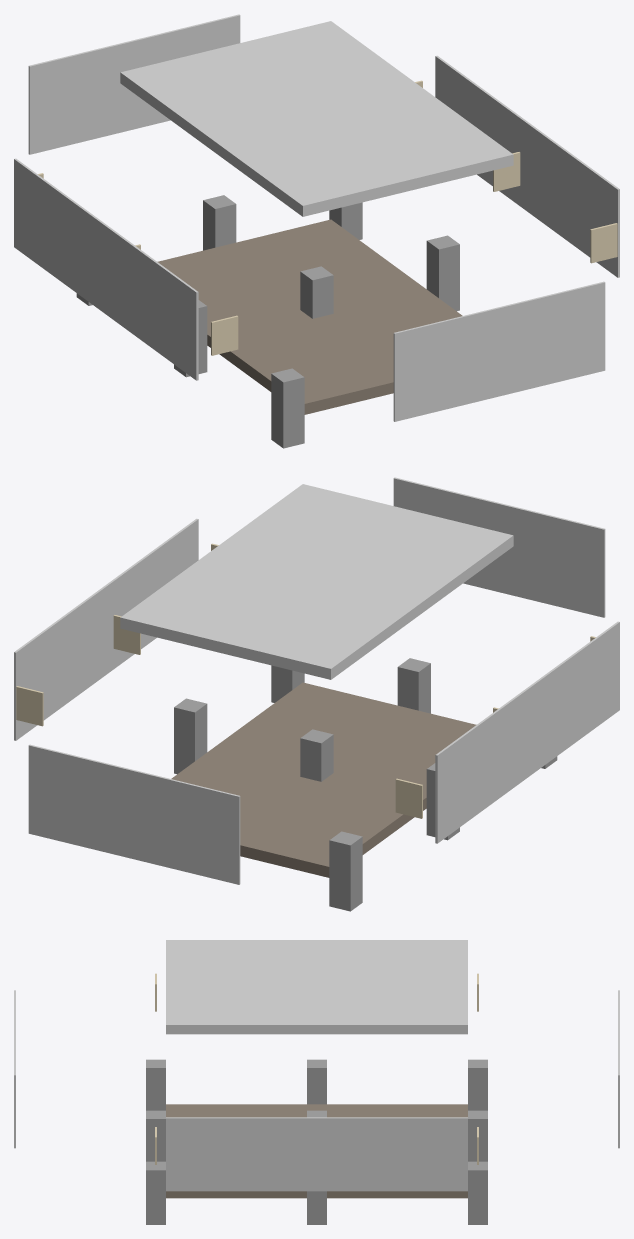
File: gallery_room.glb
The picture shows the model from 3 angles, top to bottom: view 1: azimuth 30°, elevation 25°; view 2: azimuth 150°, elevation 25°; view 3: azimuth 270°, elevation 25°; orthographic projection. The views are drawn at different scales.
Parts seen in each view (by area): view 1: Ceiling, Floor, WallFront, WallLeft, WallBack, WallRight, Pedestal_0, Pedestal_7, Pedestal_5, Pedestal_4, Frame_0, Frame_3 (+3 smaller); view 2: Ceiling, Floor, WallBack, WallLeft, WallFront, WallRight, Pedestal_2, Pedestal_7, Pedestal_3, Pedestal_4, Frame_2, Frame_5 (+3 smaller); view 3: Ceiling, WallRight, Floor, Pedestal_6, Pedestal_8, Pedestal_0, Pedestal_2, Pedestal_3, Pedestal_5, Pedestal_1, Pedestal_7.
Part boxes in pixels (bbox=[...]): Ceiling: bbox=[120, 21, 513, 216]; Floor: bbox=[157, 219, 462, 414]; WallFront: bbox=[393, 281, 605, 421]; WallLeft: bbox=[14, 158, 198, 380]; WallBack: bbox=[28, 14, 240, 154]; WallRight: bbox=[435, 55, 619, 277]; Pedestal_0: bbox=[271, 368, 304, 448]; Pedestal_7: bbox=[426, 235, 459, 311]; Pedestal_5: bbox=[203, 195, 236, 250]; Pedestal_4: bbox=[300, 266, 333, 318]; Frame_0: bbox=[211, 315, 238, 355]; Frame_3: bbox=[590, 223, 617, 263]; Ceiling: bbox=[120, 484, 513, 679]; Floor: bbox=[171, 682, 476, 877]; WallBack: bbox=[28, 744, 240, 884]; WallLeft: bbox=[435, 621, 619, 843]; WallFront: bbox=[393, 477, 605, 617]; WallRight: bbox=[14, 518, 198, 740]; Pedestal_2: bbox=[329, 831, 362, 911]; Pedestal_7: bbox=[174, 698, 207, 774]; Pedestal_3: bbox=[397, 658, 430, 713]; Pedestal_4: bbox=[300, 729, 333, 781]; Frame_2: bbox=[395, 778, 422, 818]; Frame_5: bbox=[16, 686, 43, 726]; Ceiling: bbox=[166, 940, 467, 1034]; WallRight: bbox=[166, 1117, 467, 1191]; Floor: bbox=[166, 1104, 467, 1198]; Pedestal_6: bbox=[146, 1161, 165, 1224]; Pedestal_8: bbox=[468, 1161, 487, 1224]; Pedestal_0: bbox=[146, 1059, 165, 1110]; Pedestal_2: bbox=[468, 1059, 487, 1110]; Pedestal_3: bbox=[146, 1110, 165, 1161]; Pedestal_5: bbox=[468, 1110, 487, 1161]; Pedestal_1: bbox=[307, 1059, 326, 1104]; Pedestal_7: bbox=[307, 1191, 326, 1224].
Bounding box in the file's own units: 20.1 × 10.25 × 30.1.
